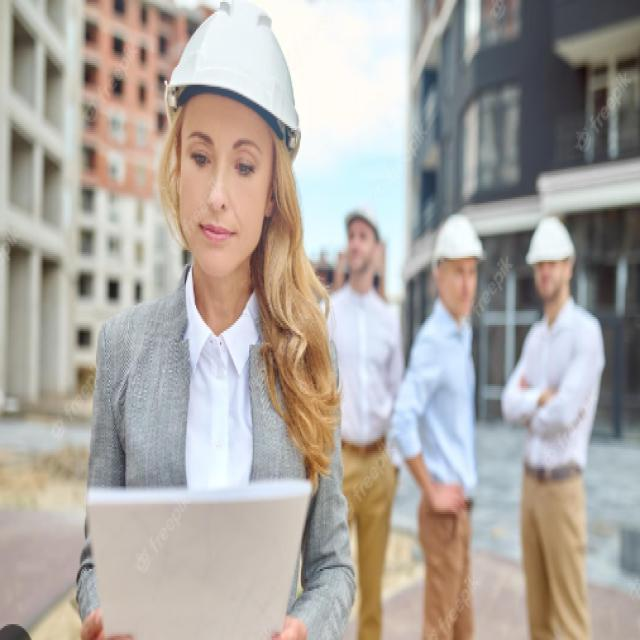helmet: (163, 0, 305, 290), (430, 206, 488, 319), (526, 215, 580, 306), (342, 202, 388, 294)
